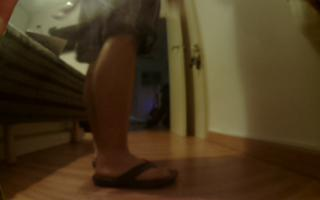person: (75, 1, 183, 191)
